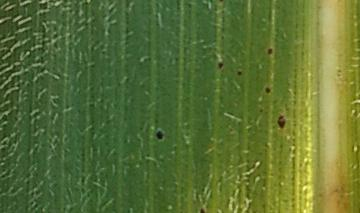tarspot: (273, 111, 289, 132), (260, 82, 276, 98), (152, 125, 165, 143), (214, 58, 226, 73), (233, 67, 246, 80), (264, 44, 276, 58), (196, 203, 208, 213)
